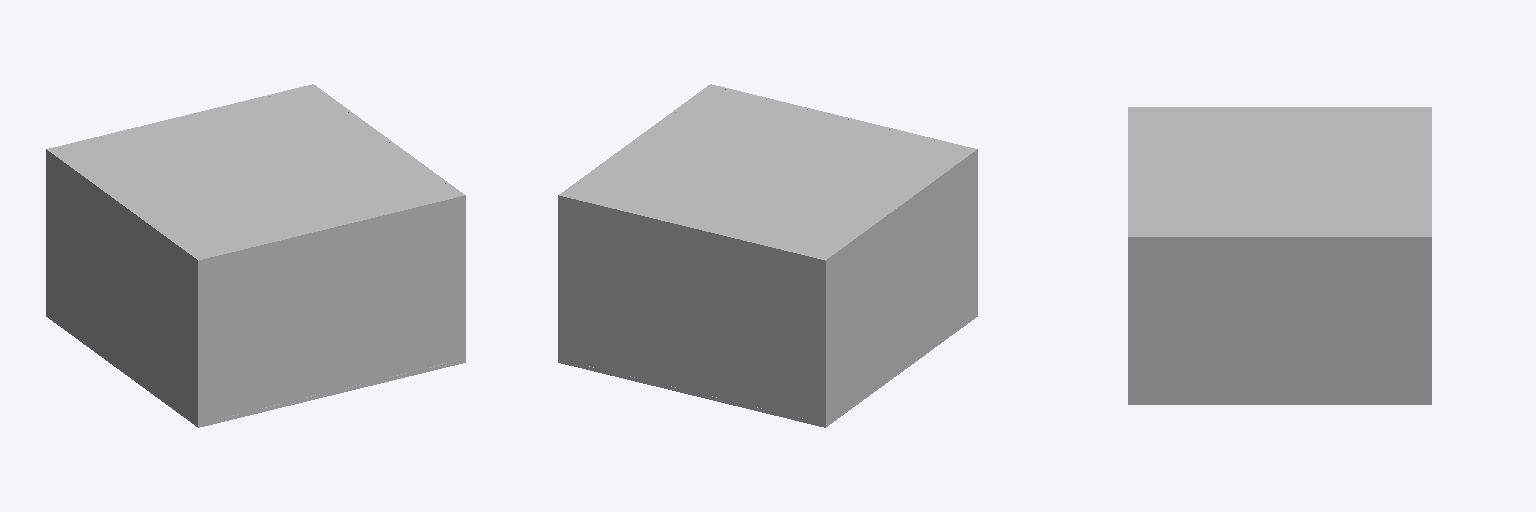
The model's file is emptyRoom.obj.
3 views of the same model, side by side, from view 1: azimuth 30°, elevation 25°; view 2: azimuth 150°, elevation 25°; view 3: azimuth 270°, elevation 25° (orthographic).
Visible parts, largest first — view 1: wall_4_Cube.005, Room.001_Cube.006, wall_1_Cube.002, Room_Cube.001, wall_2_Cube.003; view 2: wall_3_Cube.004, Room.001_Cube.006, wall_1_Cube.002, Room_Cube.001, wall_2_Cube.003; view 3: wall_2_Cube.003, Room.001_Cube.006, wall_1_Cube.002.
Boxes of the visible parts, x1=… form: wall_4_Cube.005: x1=199, y1=195, x2=463, y2=422; Room.001_Cube.006: x1=52, y1=86, x2=462, y2=263; wall_1_Cube.002: x1=46, y1=149, x2=200, y2=427; Room_Cube.001: x1=201, y1=360, x2=462, y2=426; wall_2_Cube.003: x1=312, y1=84, x2=465, y2=362; wall_3_Cube.004: x1=560, y1=195, x2=823, y2=422; Room.001_Cube.006: x1=561, y1=86, x2=974, y2=263; wall_1_Cube.002: x1=823, y1=149, x2=977, y2=427; Room_Cube.001: x1=561, y1=360, x2=822, y2=426; wall_2_Cube.003: x1=558, y1=84, x2=711, y2=362; wall_2_Cube.003: x1=1128, y1=236, x2=1431, y2=404; Room.001_Cube.006: x1=1132, y1=109, x2=1428, y2=235; wall_1_Cube.002: x1=1128, y1=107, x2=1431, y2=108.
Size of the model in its own units: 14.05 by 8.41 by 13.85.